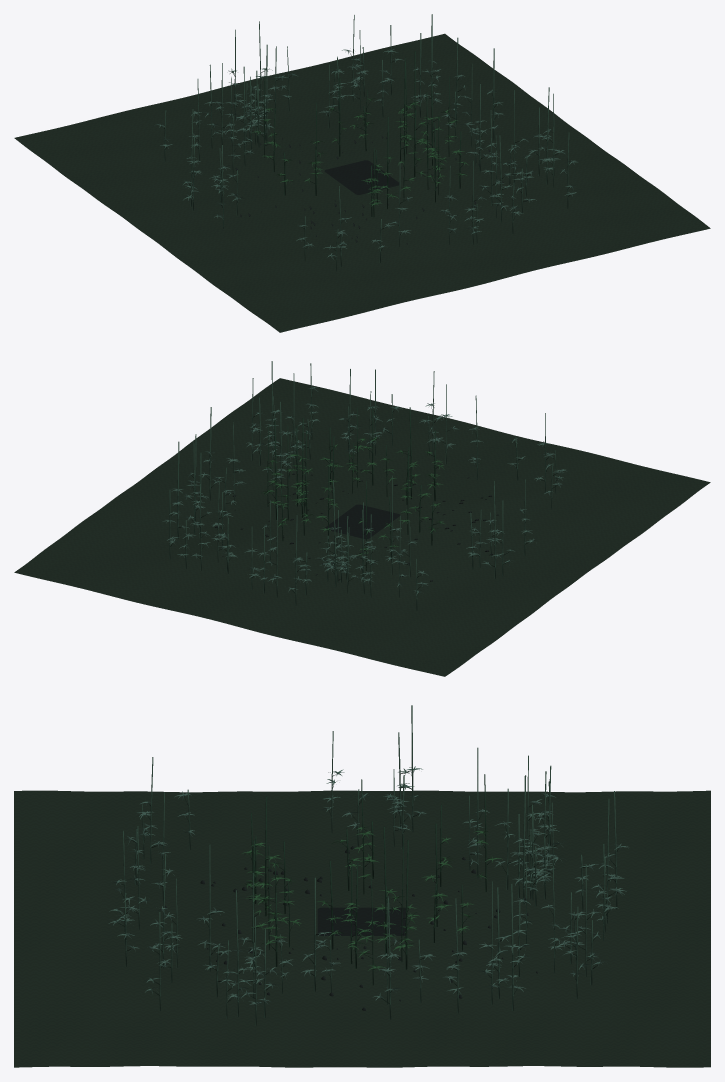
Rendered from world-bamboo.glb.
3 views of the same model, one above another, from view 1: azimuth 30°, elevation 25°; view 2: azimuth 150°, elevation 25°; view 3: azimuth 270°, elevation 25° (orthographic). The views are drawn at different scales.
Visible parts, largest first — view 1: Quiet_MossTerrain_Continuous, BJ8_World_Bamboo_bamboo_mist_muted, BJ8_World_Bamboo_bamboo_leaf_mist, BJ8_World_Bamboo_bamboo_rain_deep, BJ8_World_Bamboo_bamboo_leaf_wet, Quiet_WetSlate_Rounded_6x8, BJ8_World_Bamboo_bamboo_node_dark; view 2: Quiet_MossTerrain_Continuous, BJ8_World_Bamboo_bamboo_mist_muted, BJ8_World_Bamboo_bamboo_leaf_mist, BJ8_World_Bamboo_bamboo_rain_deep, BJ8_World_Bamboo_bamboo_leaf_wet, Quiet_WetSlate_Rounded_6x8, BJ8_World_Bamboo_bamboo_node_dark; view 3: Quiet_MossTerrain_Continuous, BJ8_World_Bamboo_bamboo_mist_muted, BJ8_World_Bamboo_bamboo_leaf_mist, BJ8_World_Bamboo_bamboo_rain_deep, BJ8_World_Bamboo_bamboo_leaf_wet, Quiet_WetSlate_Rounded_6x8, BJ8_World_Bamboo_bamboo_node_dark, BJ8_Quiet_Bamboo_stone_slate_edge.
Part boxes in pixels (<box>): Quiet_MossTerrain_Continuous: <box>14,33,710,332</box>; BJ8_World_Bamboo_bamboo_mist_muted: <box>164,14,569,271</box>; BJ8_World_Bamboo_bamboo_leaf_mist: <box>154,49,577,259</box>; BJ8_World_Bamboo_bamboo_rain_deep: <box>264,51,461,217</box>; BJ8_World_Bamboo_bamboo_leaf_wet: <box>252,98,468,207</box>; Quiet_WetSlate_Rounded_6x8: <box>324,160,399,194</box>; BJ8_World_Bamboo_bamboo_node_dark: <box>161,52,570,258</box>; Quiet_MossTerrain_Continuous: <box>14,378,710,676</box>; BJ8_World_Bamboo_bamboo_mist_muted: <box>169,361,555,610</box>; BJ8_World_Bamboo_bamboo_leaf_mist: <box>162,386,566,595</box>; BJ8_World_Bamboo_bamboo_rain_deep: <box>267,406,435,570</box>; BJ8_World_Bamboo_bamboo_leaf_wet: <box>261,437,444,556</box>; Quiet_WetSlate_Rounded_6x8: <box>325,504,400,539</box>; BJ8_World_Bamboo_bamboo_node_dark: <box>170,390,559,596</box>; Quiet_MossTerrain_Continuous: <box>14,790,710,1067</box>; BJ8_World_Bamboo_bamboo_mist_muted: <box>123,705,617,1025</box>; BJ8_World_Bamboo_bamboo_leaf_mist: <box>108,766,628,1005</box>; BJ8_World_Bamboo_bamboo_rain_deep: <box>251,774,486,985</box>; BJ8_World_Bamboo_bamboo_leaf_wet: <box>242,825,502,970</box>; Quiet_WetSlate_Rounded_6x8: <box>317,907,405,935</box>; BJ8_World_Bamboo_bamboo_node_dark: <box>117,770,618,1003</box>; BJ8_Quiet_Bamboo_stone_slate_edge: <box>164,846,537,1010</box>.
Size of the model in its own units: 58 by 13.37 by 62.
8 materials, 8 textured.
